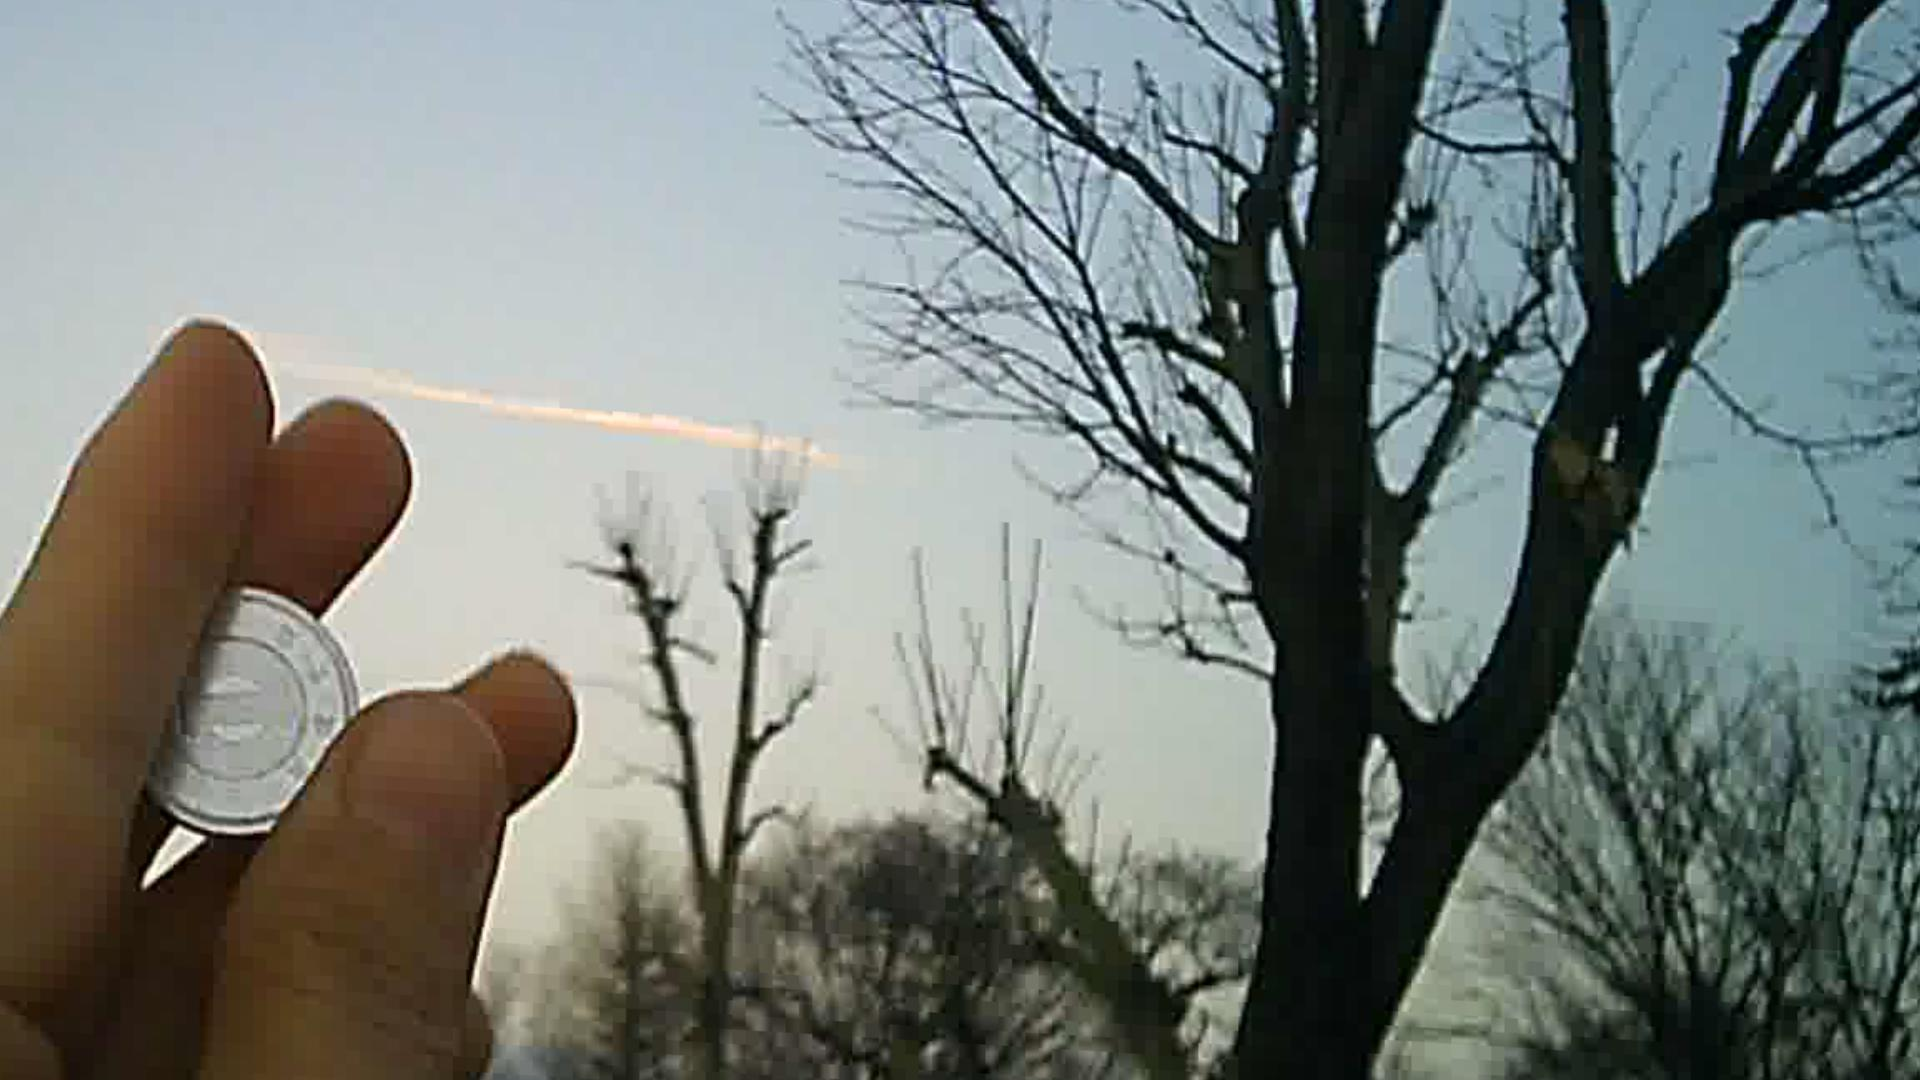1 Yen: (140, 575, 343, 819)
